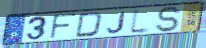3: (26, 15, 48, 42)
D: (74, 11, 105, 39)
F: (49, 13, 78, 40)
J: (105, 11, 127, 34)
L: (128, 7, 153, 36)
S: (155, 5, 184, 33)
